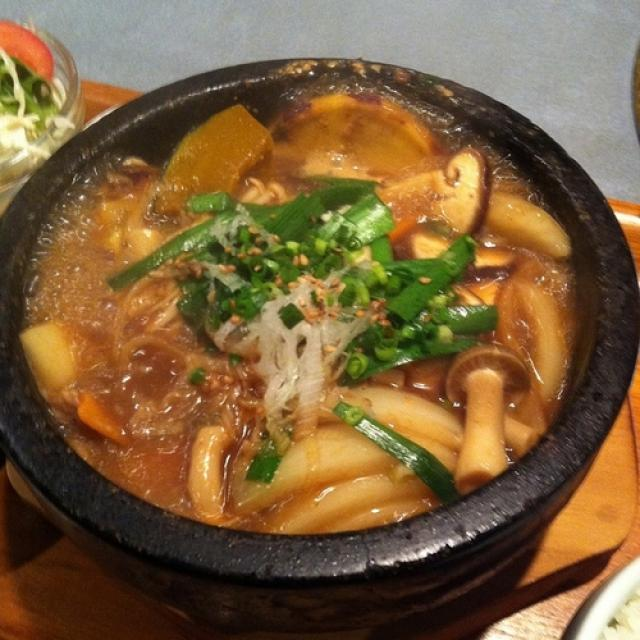汤锅炖物: (15, 37, 616, 570)
